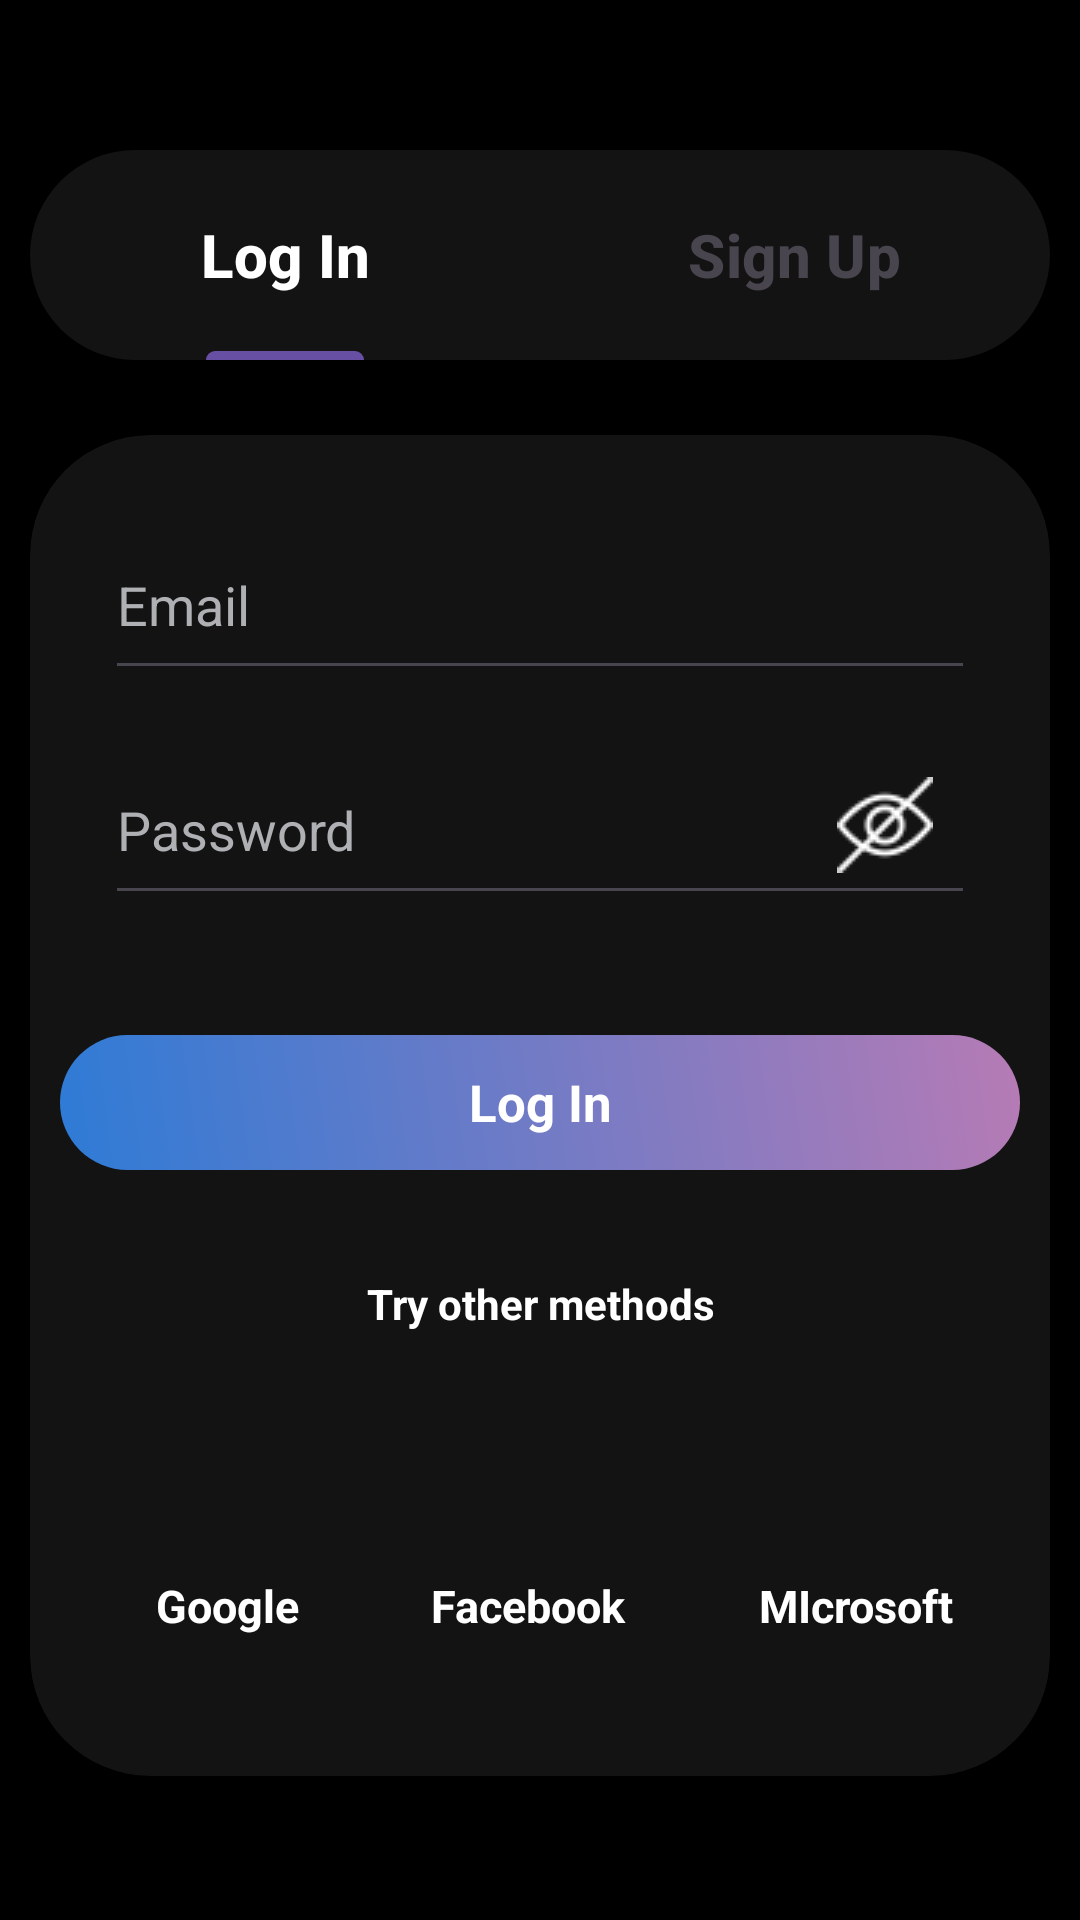

Where icons sit on this 1080w x 1920h app screen, as (x1, y1, x2, y2):
hidden: (837, 777, 933, 873)
